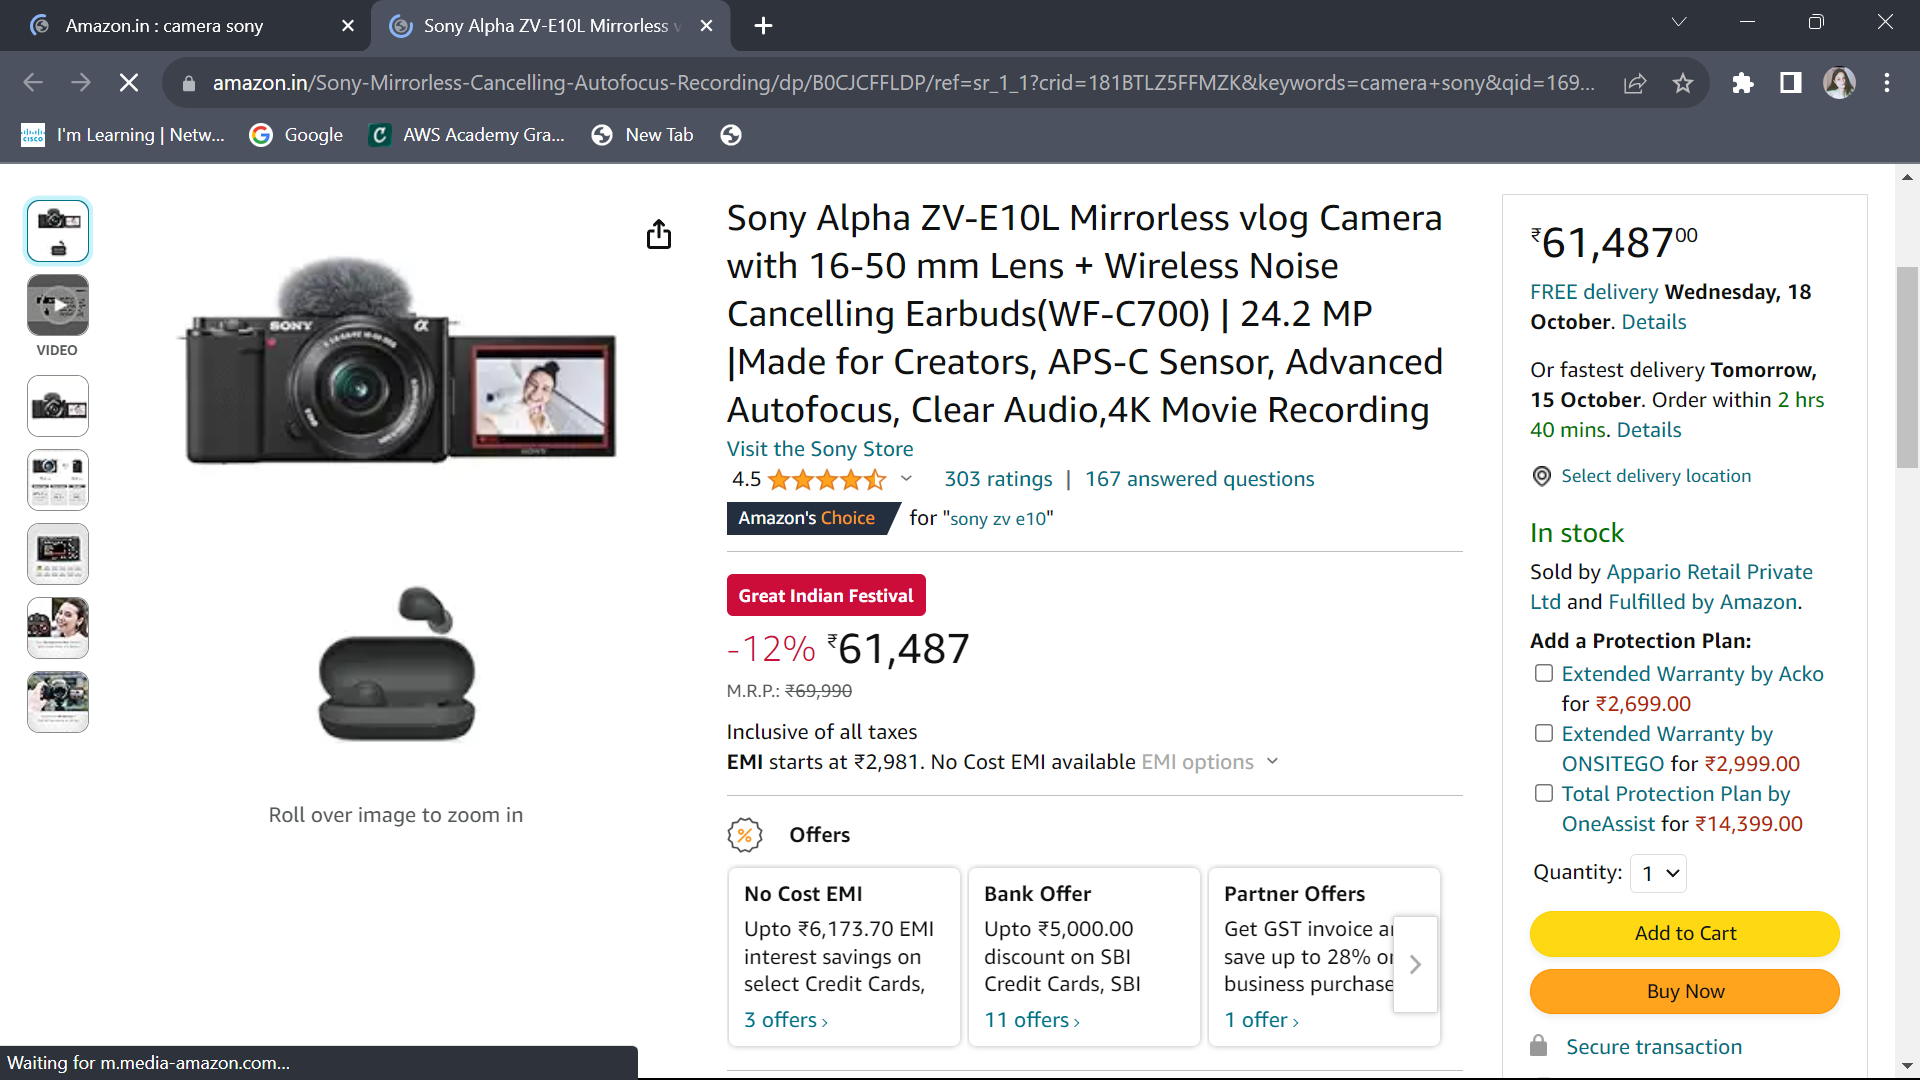Image: (177, 206, 669, 513), (251, 583, 543, 770)
Paragraph: (711, 182, 1457, 444), (720, 803, 1487, 1048), (1516, 517, 1833, 848), (713, 570, 1185, 716), (1516, 860, 1842, 1063), (1499, 272, 1849, 451), (708, 716, 1323, 803), (1499, 203, 1842, 262), (725, 469, 1356, 501), (1523, 460, 1768, 493), (1356, 902, 1516, 947), (725, 448, 923, 472)
